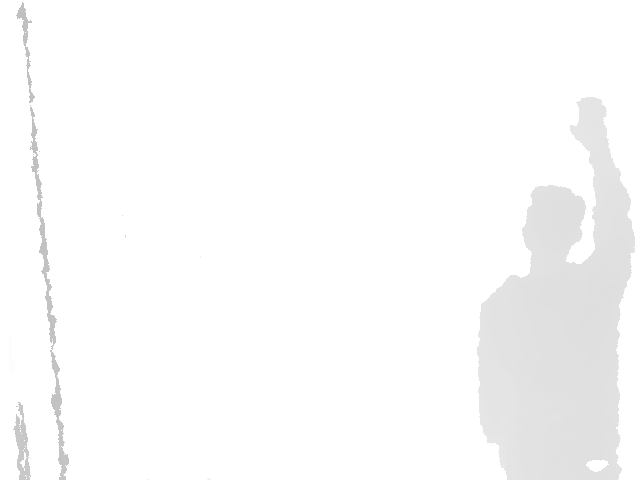hand: (570, 97, 608, 150)
head: (522, 184, 586, 258)
person: (477, 97, 635, 480)
